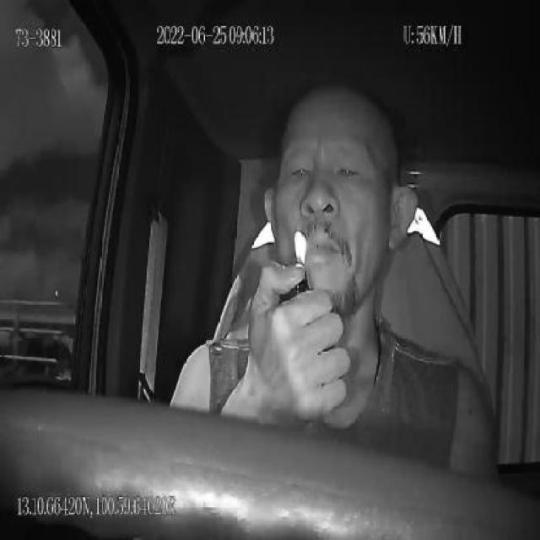smoking: (296, 236, 316, 272)
